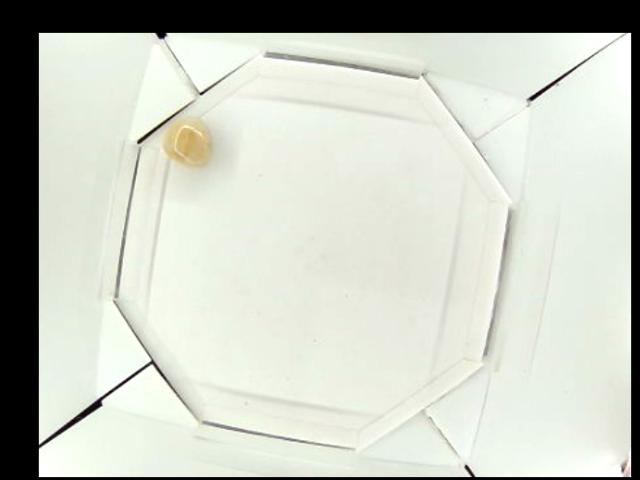Pebble: (160, 118, 214, 167)
